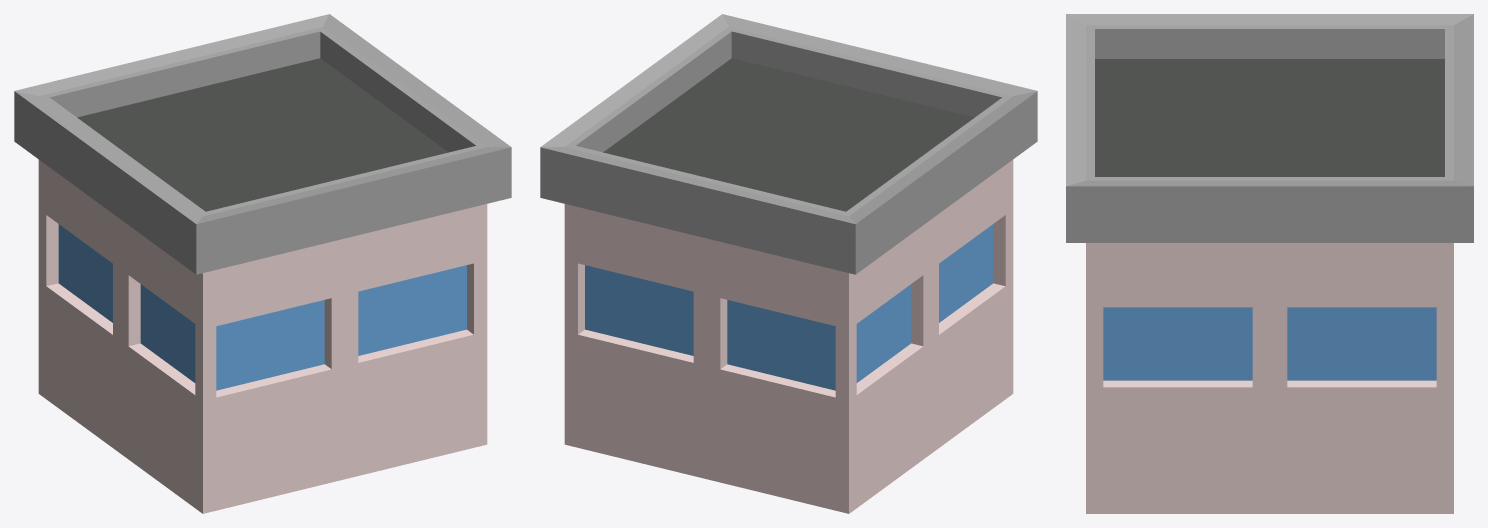
Rendered from building_1x1_2_r.glb.
3 views of the same model, side by side, from view 1: azimuth 30°, elevation 25°; view 2: azimuth 150°, elevation 25°; view 3: azimuth 270°, elevation 25° (orthographic). The views are drawn at different scales.
Visible parts, largest first — view 1: Cube.002; view 2: Cube.002; view 3: Cube.002.
Boxes of the visible parts, <box> form: Cube.002: <box>14,14,511,513</box>; Cube.002: <box>540,14,1037,513</box>; Cube.002: <box>1066,14,1473,513</box>.
Bounding box in the file's own units: 1.78 × 1.61 × 1.78.
